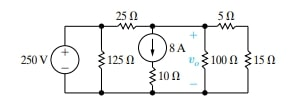current: (137, 31, 169, 64)
dc: (49, 43, 82, 77)
resistor: (94, 48, 108, 72), (199, 48, 211, 76), (147, 65, 159, 88), (213, 22, 240, 32), (115, 21, 141, 31)
